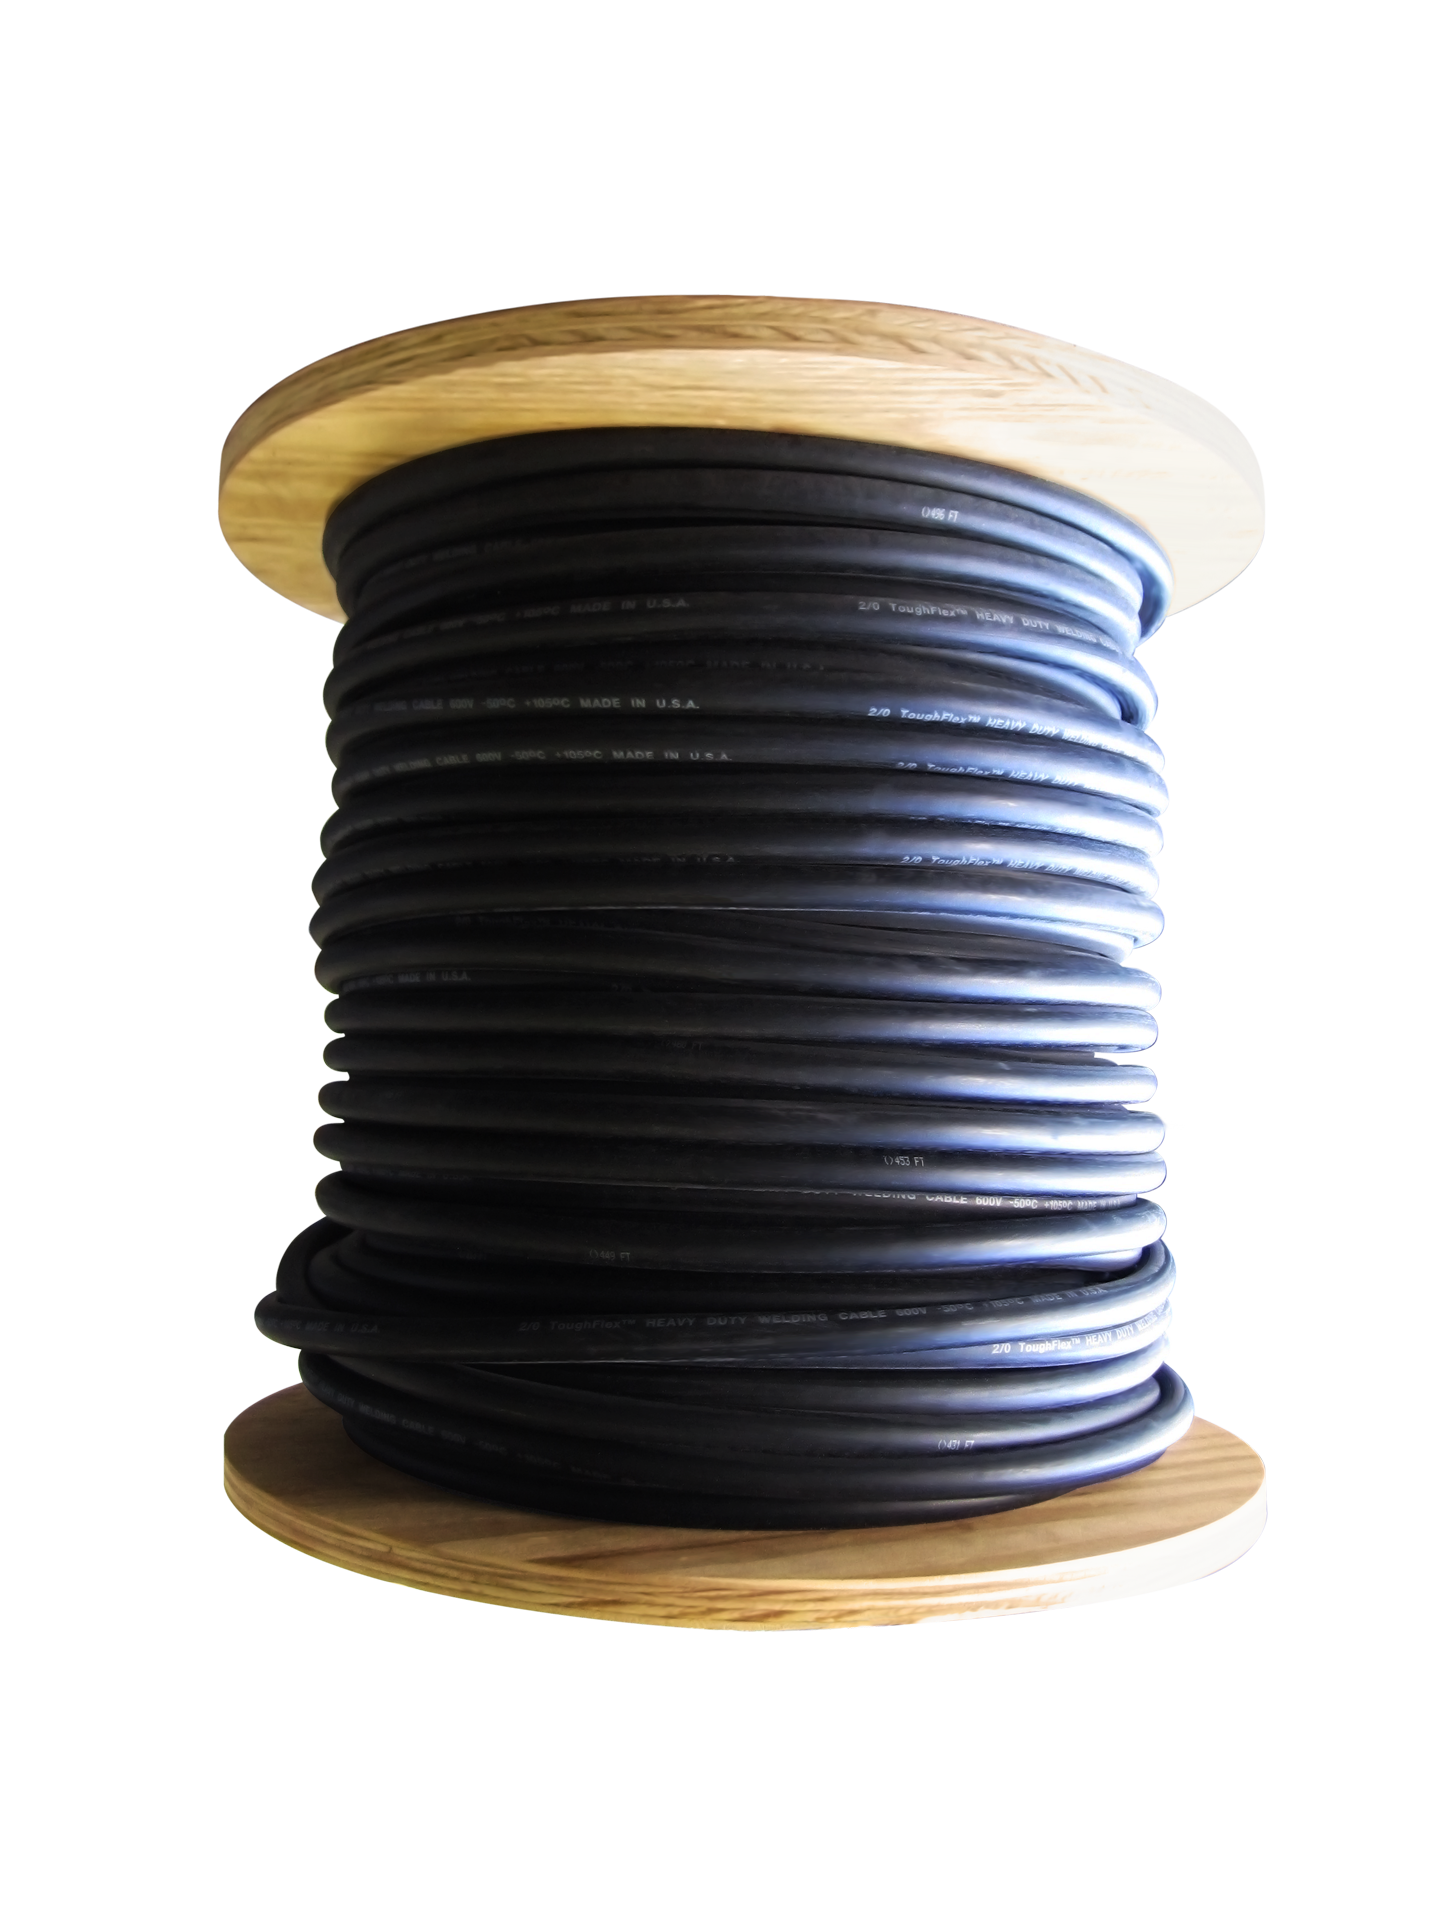Nonrec_Tangler: (17, 88, 1386, 1625)
